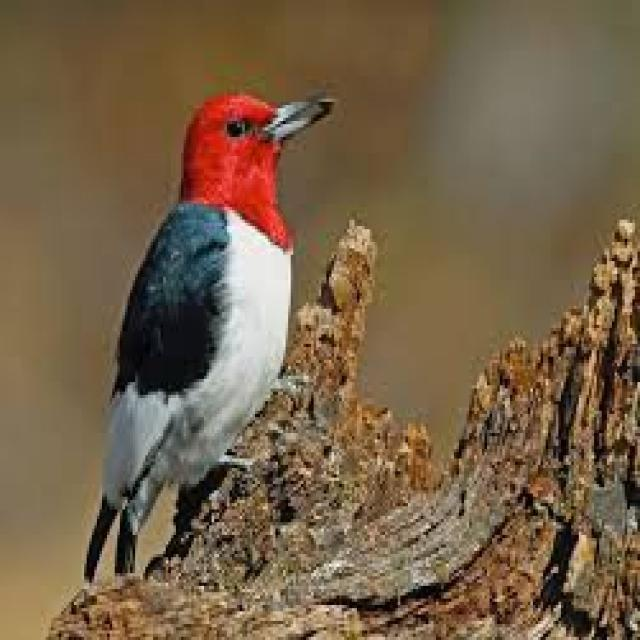Woodpecker: (85, 50, 340, 585)
